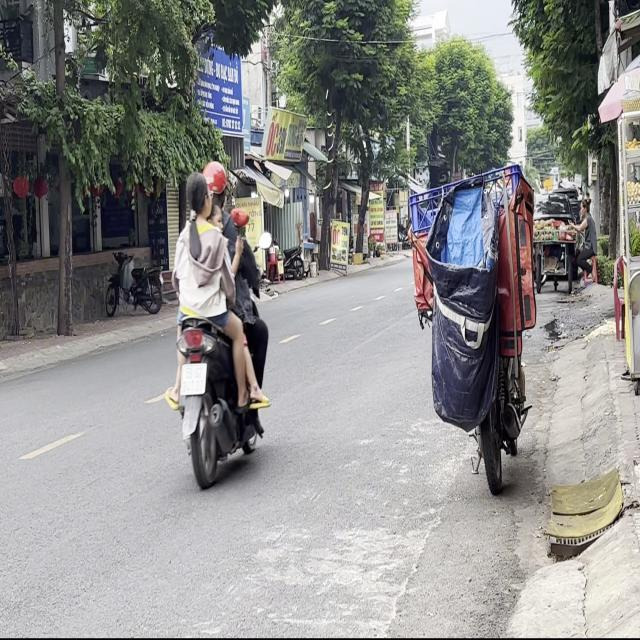helmet: (202, 160, 228, 212)
licenseplate: (163, 156, 269, 486)
motorcyclist: (184, 171, 209, 221)
nohelmet: (180, 362, 207, 395)
